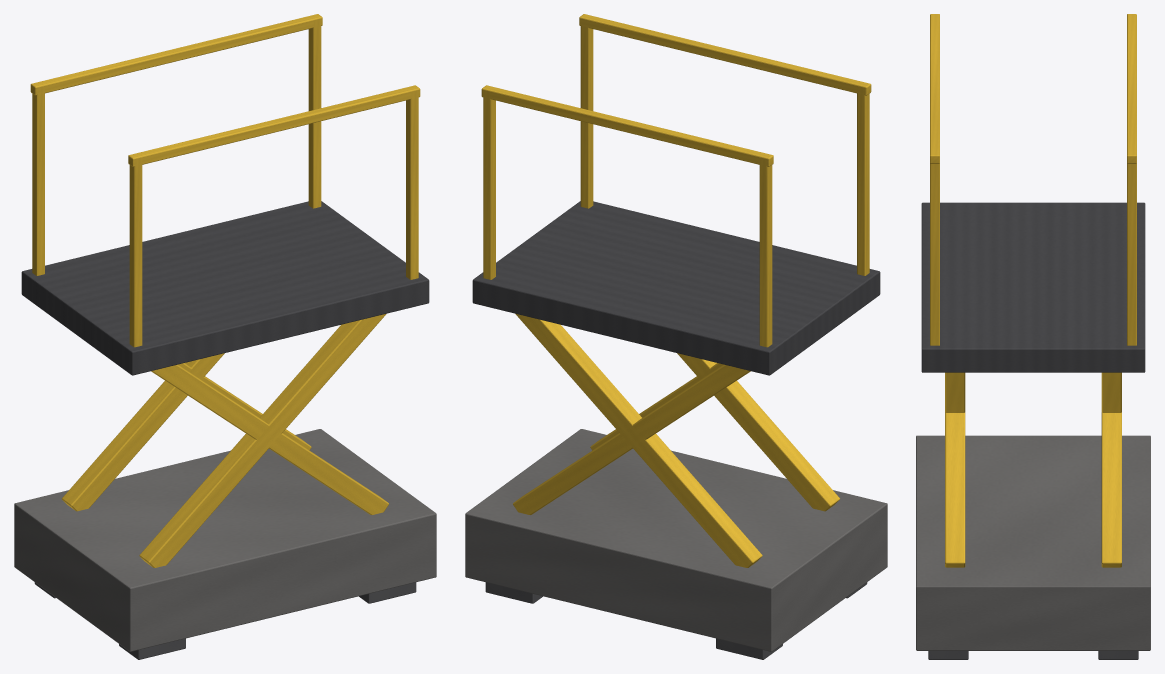
The model's file is mobile_lift.glb.
3 renders of one model, left to right at view 1: azimuth 30°, elevation 25°; view 2: azimuth 150°, elevation 25°; view 3: azimuth 270°, elevation 25°, orthographic.
Parts seen in each view (by area): view 1: base.009, lift_deck, lift_cross_a, lift_cross_b, lift_cross_a.001, top_rail.002, top_rail.001, post.006, post.007, post.008, post.009, lift_cross_b.001; view 2: base.009, lift_deck, lift_cross_a.001, lift_cross_b.001, lift_cross_a, top_rail.001, top_rail.002, post.007, post.006, post.009, post.008, lift_cross_b; view 3: base.009, lift_deck, lift_cross_b, lift_cross_b.001, post.008, post.009, top_rail.001, top_rail.002, lift_cross_a, lift_cross_a.001, wheel.010, wheel.011.
Part boxes in pixels (left/top/right/bottom): base.009: left=14, top=429, right=436, bottom=651; lift_deck: left=21, top=201, right=429, bottom=375; lift_cross_a: left=139, top=313, right=386, bottom=567; lift_cross_b: left=151, top=364, right=388, bottom=514; lift_cross_a.001: left=62, top=353, right=224, bottom=511; top_rail.002: left=30, top=14, right=322, bottom=95; top_rail.001: left=128, top=85, right=420, bottom=166; post.006: left=129, top=158, right=142, bottom=347; post.007: left=32, top=87, right=44, bottom=275; post.008: left=406, top=90, right=418, bottom=279; post.009: left=308, top=19, right=321, bottom=208; lift_cross_b.001: left=178, top=363, right=311, bottom=450; base.009: left=465, top=429, right=887, bottom=651; lift_deck: left=472, top=201, right=880, bottom=375; lift_cross_a.001: left=515, top=313, right=762, bottom=567; lift_cross_b.001: left=513, top=364, right=750, bottom=514; lift_cross_a: left=677, top=353, right=839, bottom=511; top_rail.001: left=579, top=14, right=871, bottom=95; top_rail.002: left=481, top=85, right=773, bottom=166; post.007: left=759, top=158, right=772, bottom=347; post.006: left=857, top=87, right=869, bottom=275; post.009: left=483, top=90, right=495, bottom=279; post.008: left=580, top=25, right=593, bottom=208; lift_cross_b: left=590, top=363, right=723, bottom=450; base.009: left=916, top=435, right=1150, bottom=650; lift_deck: left=921, top=202, right=1145, bottom=372; lift_cross_b: left=945, top=412, right=965, bottom=567; lift_cross_b.001: left=1101, top=412, right=1121, bottom=567; post.008: left=930, top=163, right=939, bottom=345; post.009: left=1127, top=163, right=1136, bottom=345; top_rail.001: left=930, top=14, right=939, bottom=163; top_rail.002: left=1127, top=14, right=1136, bottom=163; lift_cross_a: left=945, top=372, right=965, bottom=412; lift_cross_a.001: left=1101, top=372, right=1121, bottom=412; wheel.010: left=928, top=651, right=968, bottom=659; wheel.011: left=1098, top=651, right=1138, bottom=659.
Size of the model in its own units: 1.6 by 2.5 by 1.05.
Materials: 4 (4 with a texture image).
